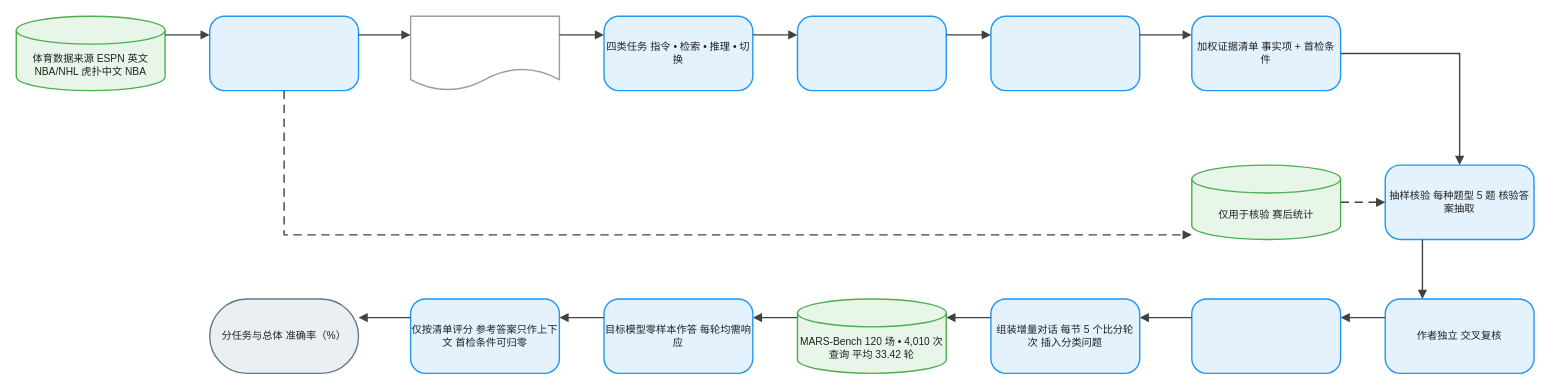
Image size: 1551x391. Some labels were removed from this diagram. Each missing label, with the centre of its shape:
"DeepSeek-V3-0324 辅助一致性检查" belongs at (1266,336).
"人工设计问题 按比赛节次与任务" belongs at (871,53).
"标准化完整比赛 实况 • 阵容 • 统计" belongs at (284,53).
"模型输入 逐事件实况 + 阵容" belongs at (484,53).
"正则筛选上下文 派生唯一参考答案" belongs at (1065,53).
